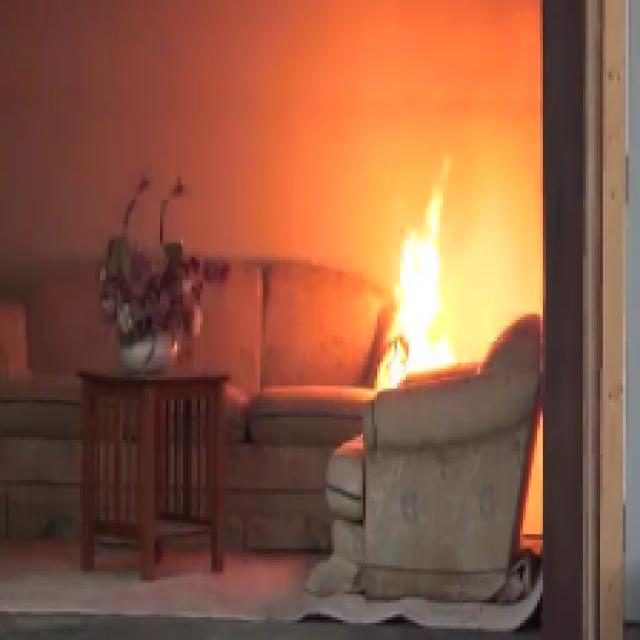smoke: (383, 170, 458, 376)
